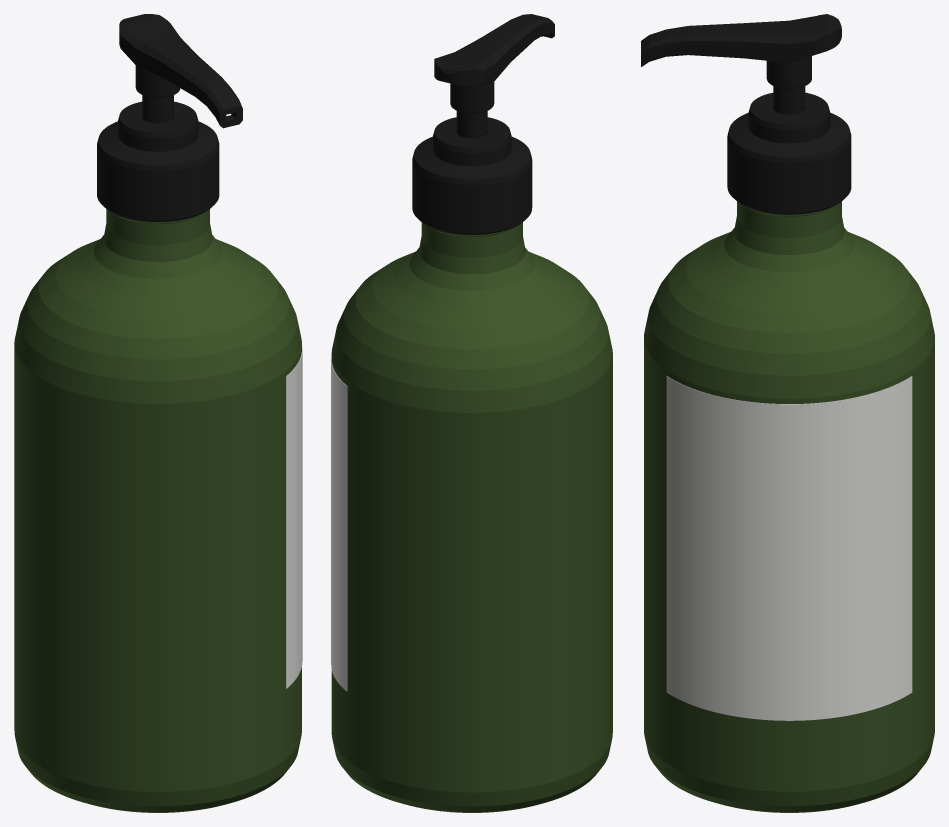
3 views of the same model, side by side, from view 1: azimuth 30°, elevation 25°; view 2: azimuth 150°, elevation 25°; view 3: azimuth 270°, elevation 25° (orthographic). The views are drawn at different scales.
Parts seen in each view (by area): view 1: visual_part_000_0_3, visual_part_000_0_0, visual_part_001_0_0, visual_part_000_0_2; view 2: visual_part_000_0_3, visual_part_000_0_0, visual_part_001_0_0, visual_part_000_0_2; view 3: visual_part_000_0_3, visual_part_000_0_2, visual_part_000_0_0, visual_part_001_0_0.
Part boxes in pixels (x1=…): visual_part_000_0_3: x1=14, y1=209, x2=301, y2=812; visual_part_000_0_0: x1=97, y1=101, x2=219, y2=221; visual_part_001_0_0: x1=119, y1=14, x2=242, y2=128; visual_part_000_0_2: x1=286, y1=344, x2=302, y2=688; visual_part_000_0_3: x1=331, y1=222, x2=612, y2=812; visual_part_000_0_0: x1=412, y1=117, x2=532, y2=234; visual_part_001_0_0: x1=434, y1=14, x2=554, y2=138; visual_part_000_0_2: x1=331, y1=354, x2=347, y2=691; visual_part_000_0_3: x1=644, y1=201, x2=934, y2=812; visual_part_000_0_2: x1=666, y1=376, x2=912, y2=720; visual_part_000_0_0: x1=727, y1=92, x2=851, y2=214; visual_part_001_0_0: x1=641, y1=14, x2=841, y2=114.
Bounding box in the file's own units: 0.1002 × 0.28 × 0.101.
